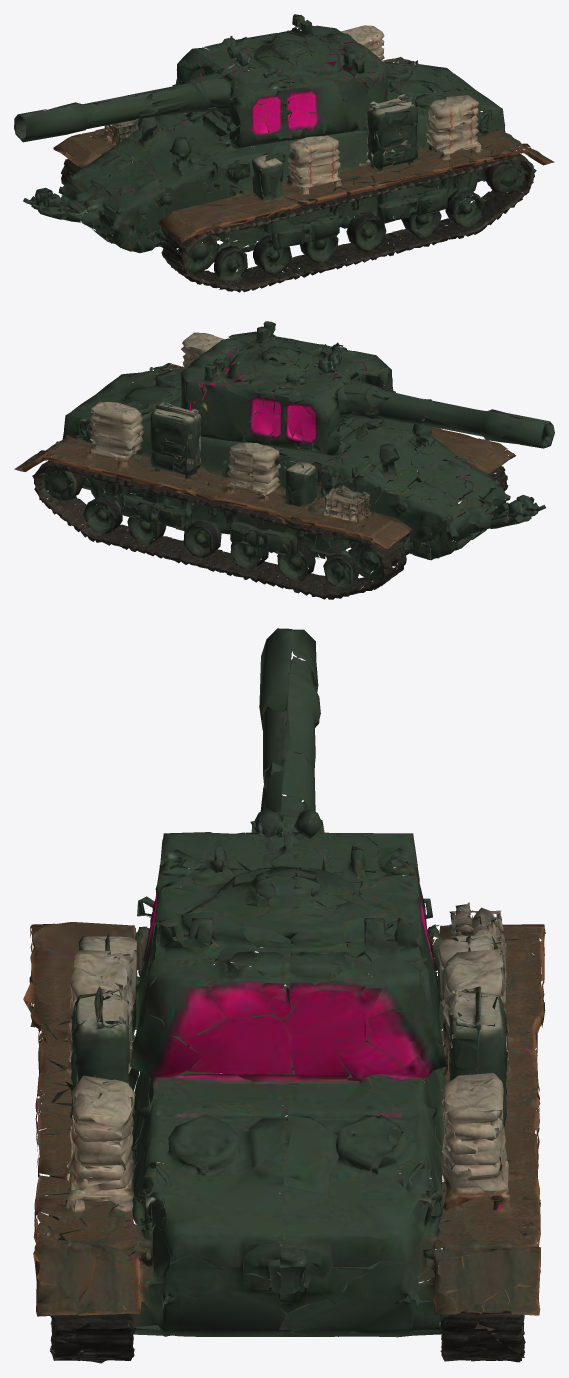
File: thumper.glb
3 renders of one model, top to bottom at view 1: azimuth 30°, elevation 25°; view 2: azimuth 150°, elevation 25°; view 3: azimuth 270°, elevation 25°, orthographic. The views are drawn at different scales.
Parts seen in each view (by area): view 1: Mesh_0; view 2: Mesh_0; view 3: Mesh_0.
Part boxes in pixels (<box>): Mesh_0: <box>14,14,554,292</box>; Mesh_0: <box>14,321,554,599</box>; Mesh_0: <box>23,628,545,1363</box>.
Bounding box in the file's own units: 1.9 × 0.7243 × 0.9119.
1 material, 1 textured.
